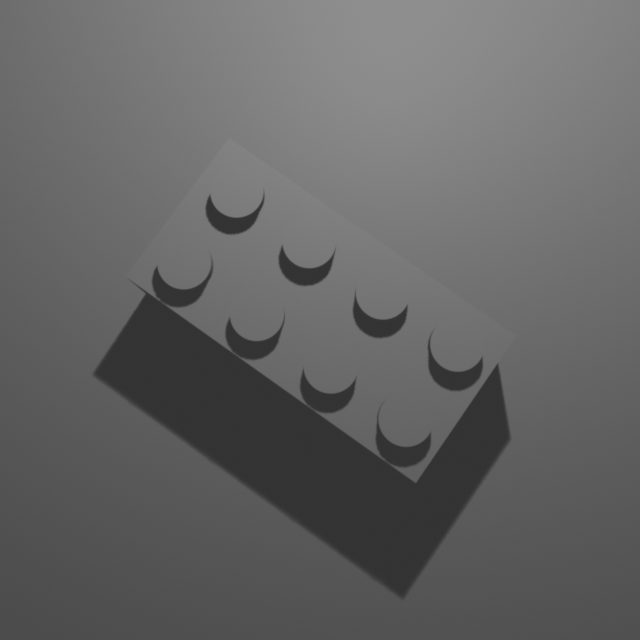lego_2x4: (121, 132, 520, 484)
